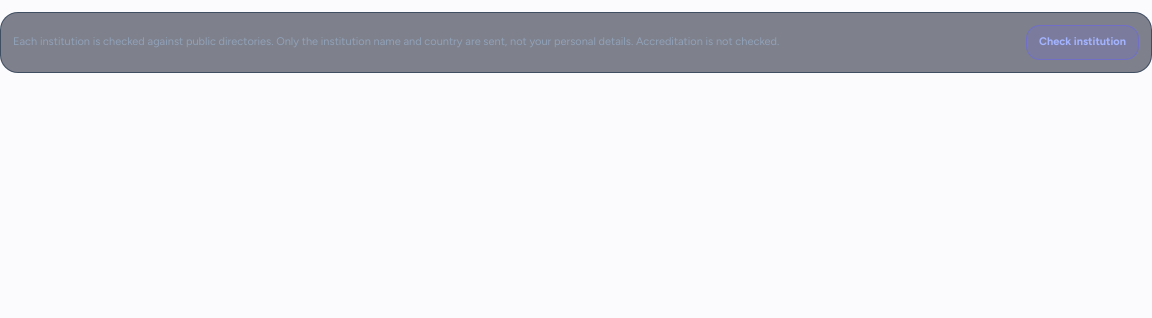
Test case: InstitutionVerification › shows source-backed evidence and enables the parent only after verification
Click the button with test id "button-check-institution": (1082, 42) [1026, 25, 1139, 60]
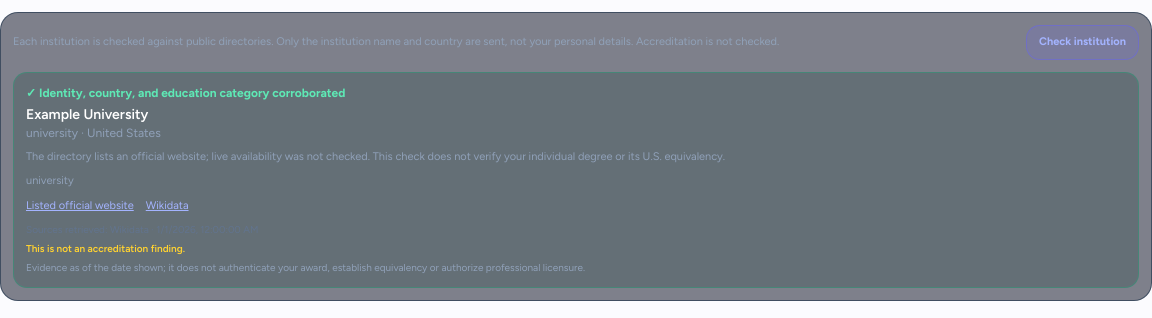
expect the element with test id "institution-verified" is shown: met
expect the link "Wikidata" is shown: met, box [146, 198, 189, 214]
